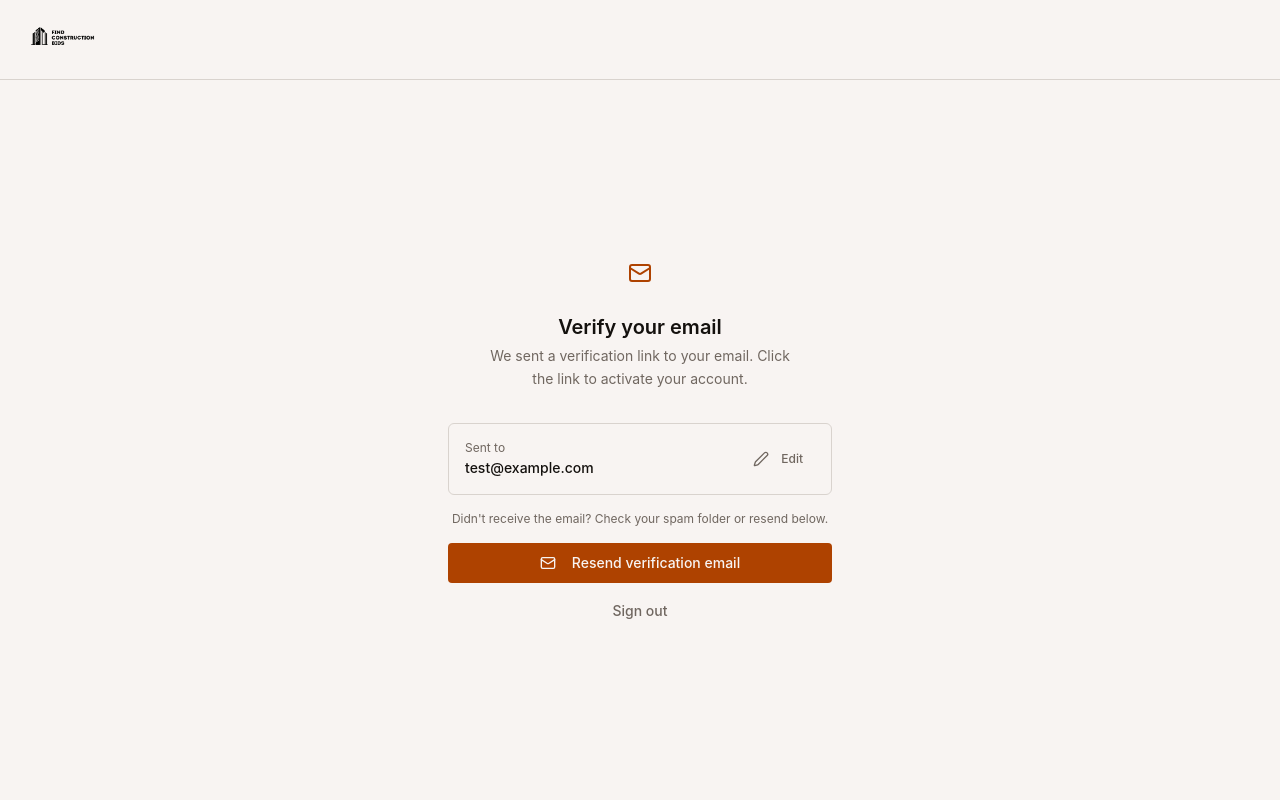
Test case: EmailVerificationPendingPage › edit email flow › shows "Email updated" toast after updating email
Click the button with test id "button-edit-email": (778, 459) [741, 441, 815, 477]
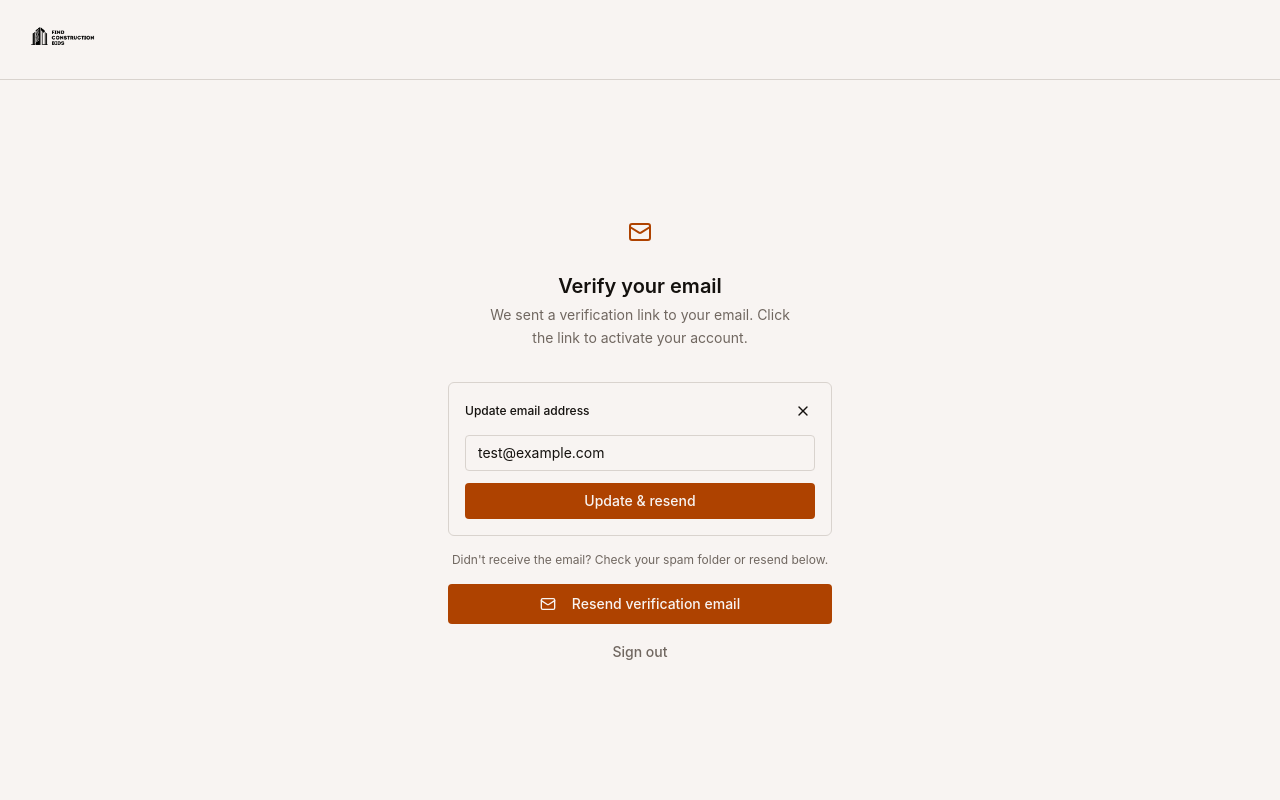
Replace the text in the field with test id "input-new-email" with "new@example.com": (640, 453) [465, 435, 815, 471]
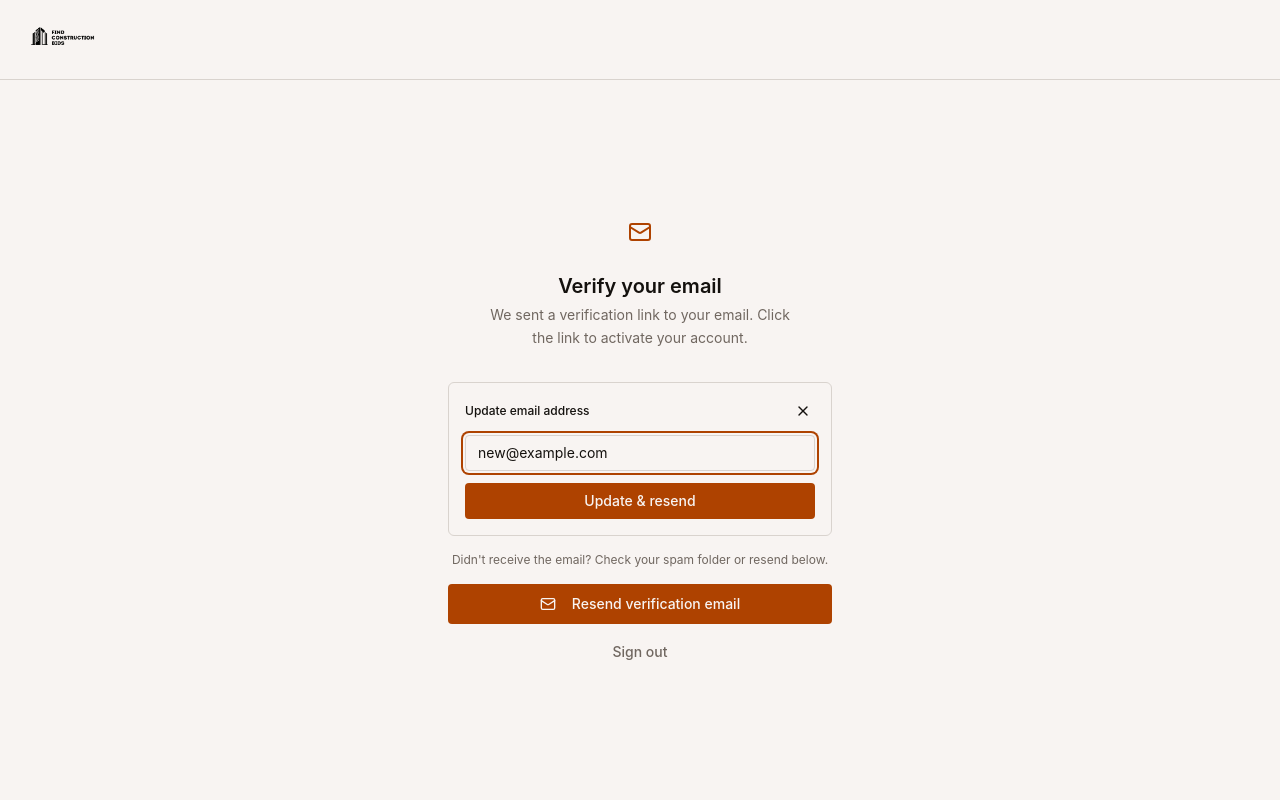
Click the button with test id "button-update-email": (640, 501) [465, 483, 815, 519]
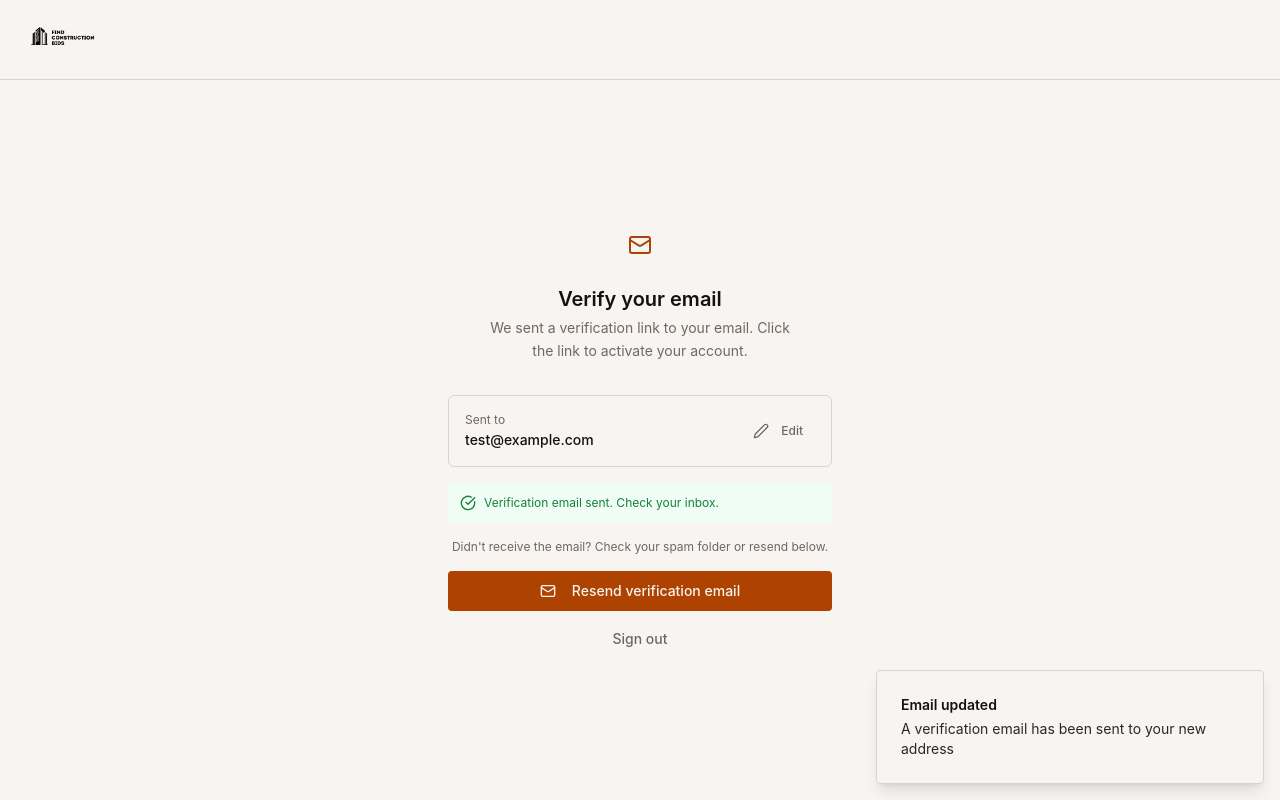
Check: the text "Email updated" is shown, box [901, 696, 997, 713]
